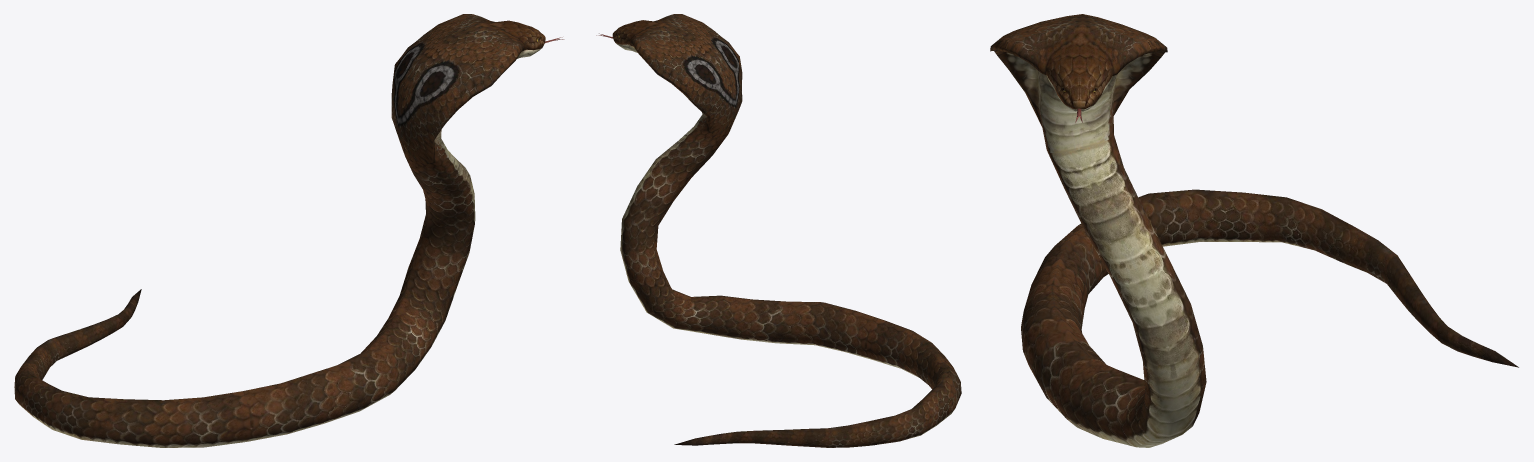
File: snake.obj
3 views of the same model, side by side, from view 1: azimuth 30°, elevation 25°; view 2: azimuth 150°, elevation 25°; view 3: azimuth 270°, elevation 25° (orthographic). The views are drawn at different scales.
Parts seen in each view (by area): view 1: Object_7; view 2: Object_7; view 3: Object_7.
Part boxes in pixels (bbox=[...]): Object_7: bbox=[14, 14, 564, 447]; Object_7: bbox=[596, 14, 961, 447]; Object_7: bbox=[990, 14, 1518, 447].
Size of the model in its own units: 71.51 by 50.43 by 51.89.
Materials: 1 (1 with a texture image).
